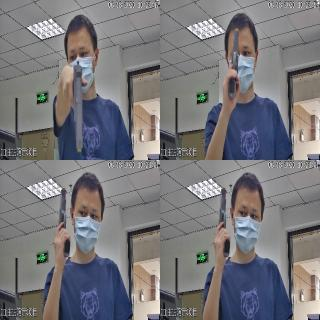gun: (66, 58, 84, 154), (226, 27, 243, 102), (214, 184, 230, 260), (56, 186, 72, 258)
